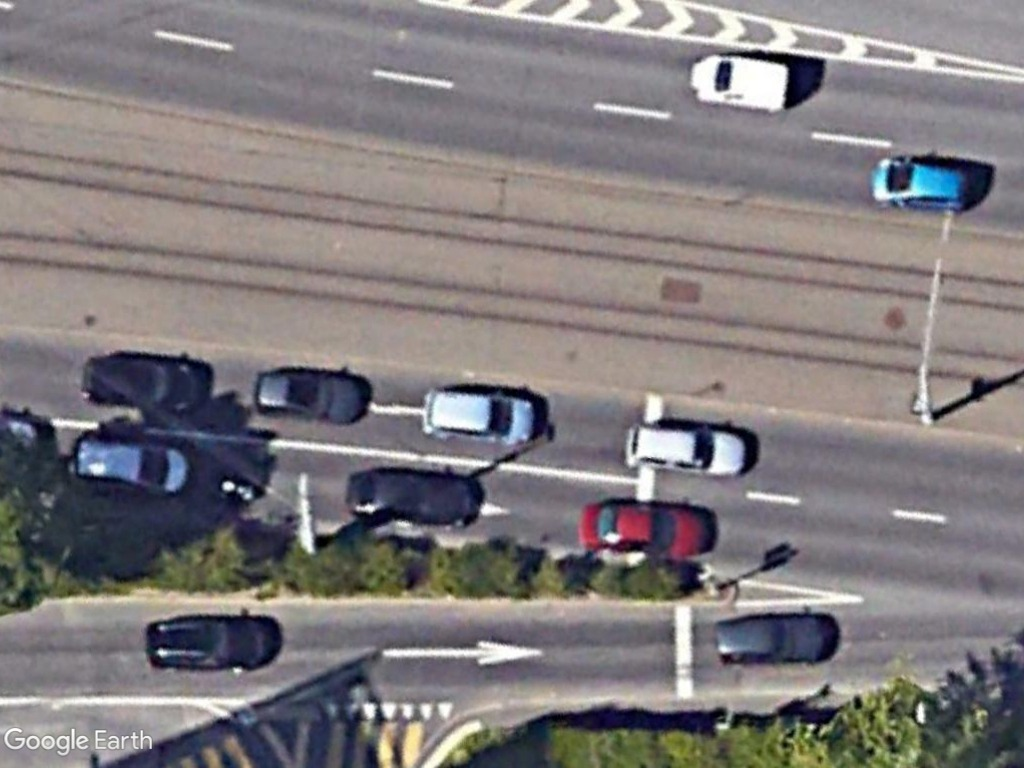car: (576, 495, 716, 557), (621, 418, 752, 478), (69, 435, 192, 498), (417, 385, 538, 446), (251, 366, 372, 427), (866, 154, 974, 215)
van: (686, 50, 793, 116)
